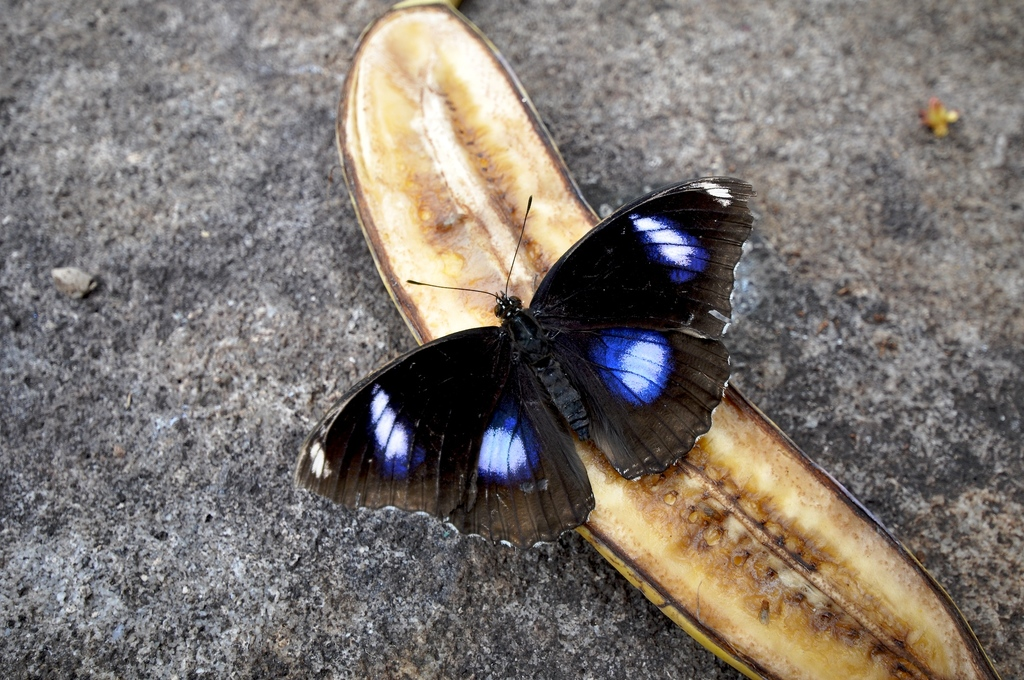Butterfly: (299, 163, 765, 547)
